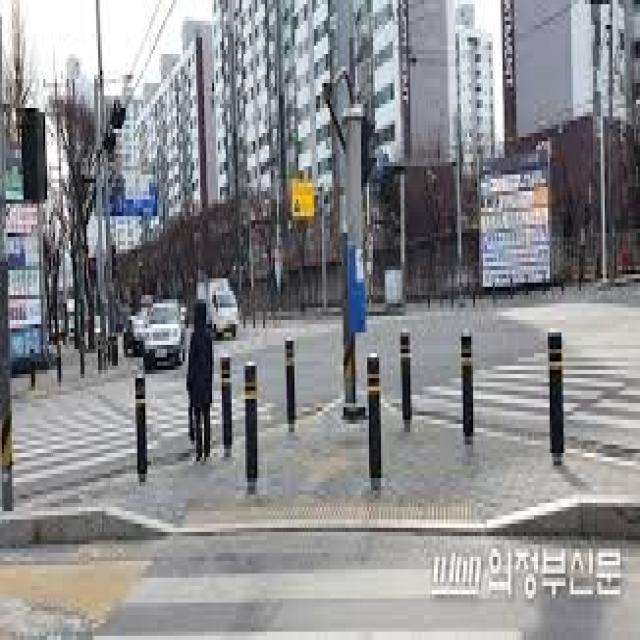bollard: (546, 319, 568, 479), (364, 344, 386, 502), (242, 355, 262, 497), (457, 320, 478, 450), (132, 365, 152, 490), (280, 331, 300, 441), (397, 322, 415, 439), (218, 352, 234, 457), (77, 332, 87, 388), (54, 337, 64, 393), (28, 343, 38, 398), (96, 336, 106, 380), (110, 332, 120, 369)
